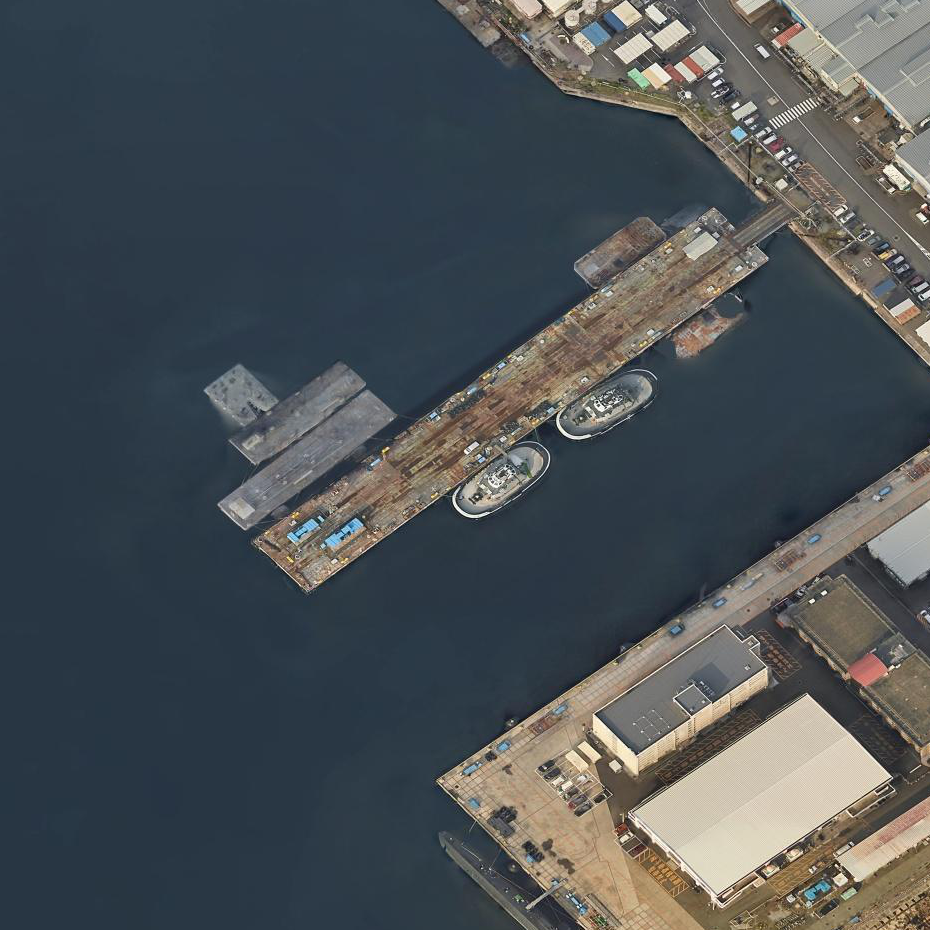Dock: (248, 178, 792, 604)
Hovercraft: (445, 427, 561, 531), (549, 354, 669, 452)
